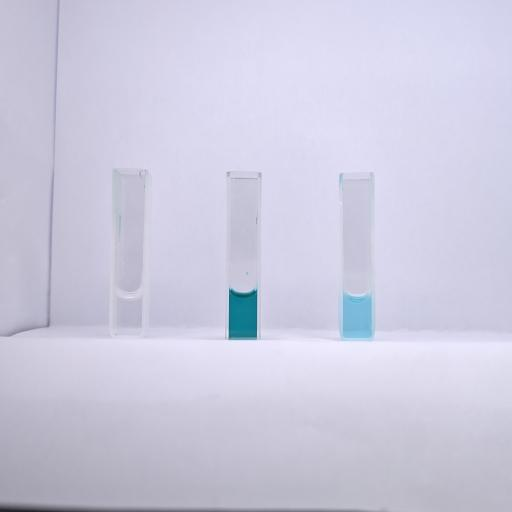cuvette: (107, 164, 151, 339), (338, 169, 377, 344), (224, 169, 263, 343)
liquid: (229, 290, 257, 338), (343, 294, 371, 337), (115, 290, 142, 334)
